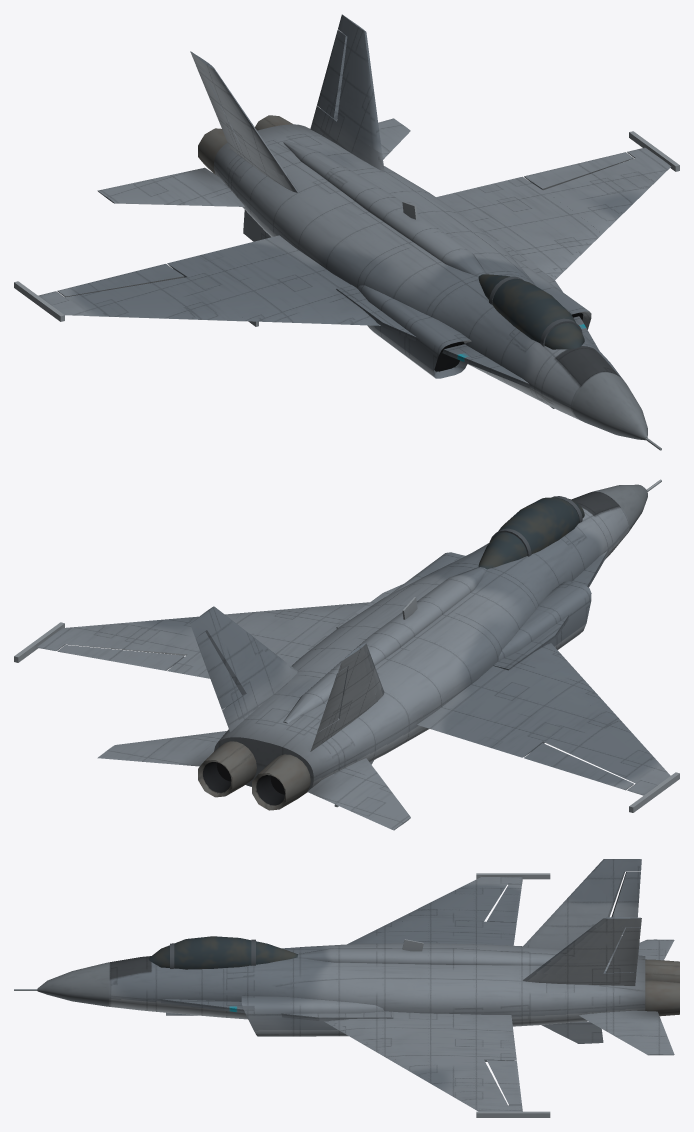
The model's file is kestrel.fbx.
The picture shows the model from 3 angles, top to bottom: view 1: azimuth 30°, elevation 25°; view 2: azimuth 150°, elevation 25°; view 3: azimuth 270°, elevation 25°; orthographic projection. The views are drawn at different scales.
Parts seen in each view (by area): view 1: Body, Elevator_L, Aileron_L, Aileron_R, Rudder_R, Elevator_R; view 2: Body, Elevator_L, Elevator_R, Aileron_L, Aileron_R, Rudder_R, Rudder_L; view 3: Body, Elevator_R, Rudder_R, Aileron_R, Rudder_L, Aileron_L, Elevator_L.
Part boxes in pixels (<box>): Body: <box>14,14,679,450</box>; Elevator_L: <box>97,167,244,206</box>; Aileron_L: <box>57,264,184,297</box>; Aileron_R: <box>524,152,633,190</box>; Rudder_R: <box>317,30,347,119</box>; Elevator_R: <box>378,118,410,159</box>; Body: <box>14,479,679,812</box>; Elevator_L: <box>307,758,410,830</box>; Elevator_R: <box>97,731,226,766</box>; Aileron_L: <box>524,743,633,790</box>; Aileron_R: <box>57,645,184,670</box>; Rudder_R: <box>195,631,242,709</box>; Rudder_L: <box>317,666,347,732</box>; Body: <box>14,859,679,1117</box>; Elevator_R: <box>579,1010,674,1055</box>; Rudder_R: <box>606,927,640,972</box>; Aileron_R: <box>487,1060,521,1105</box>; Rudder_L: <box>611,872,640,934</box>; Aileron_L: <box>487,884,521,922</box>; Elevator_L: <box>638,939,674,960</box>.
Bounding box in the file's own units: 644 × 172 × 755.
1 material, 1 textured.
